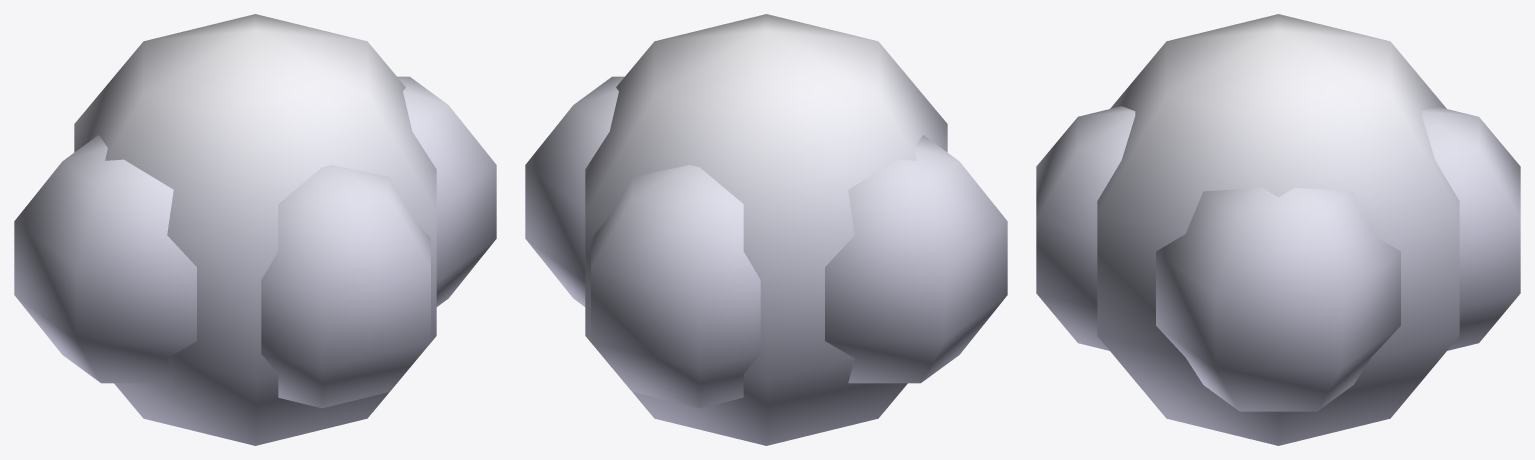
The model's file is cloud.glb.
The picture shows the model from 3 angles, left to right: view 1: azimuth 30°, elevation 25°; view 2: azimuth 150°, elevation 25°; view 3: azimuth 270°, elevation 25°; orthographic projection.
Parts seen in each view (by area): view 1: cloud; view 2: cloud; view 3: cloud.
Part boxes in pixels (bbox=[...]): cloud: bbox=[14, 14, 496, 445]; cloud: bbox=[525, 14, 1007, 445]; cloud: bbox=[1036, 14, 1520, 445].
Size of the model in its own units: 0.3631 by 0.33 by 0.3631.
1 material, 1 textured.
